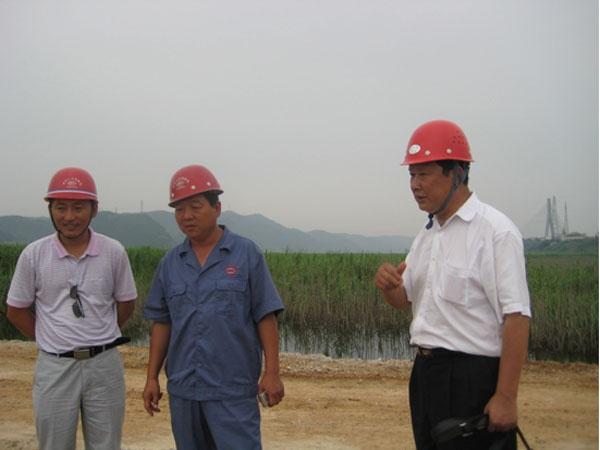red: (400, 118, 475, 213), (44, 164, 102, 241), (167, 161, 222, 241)
